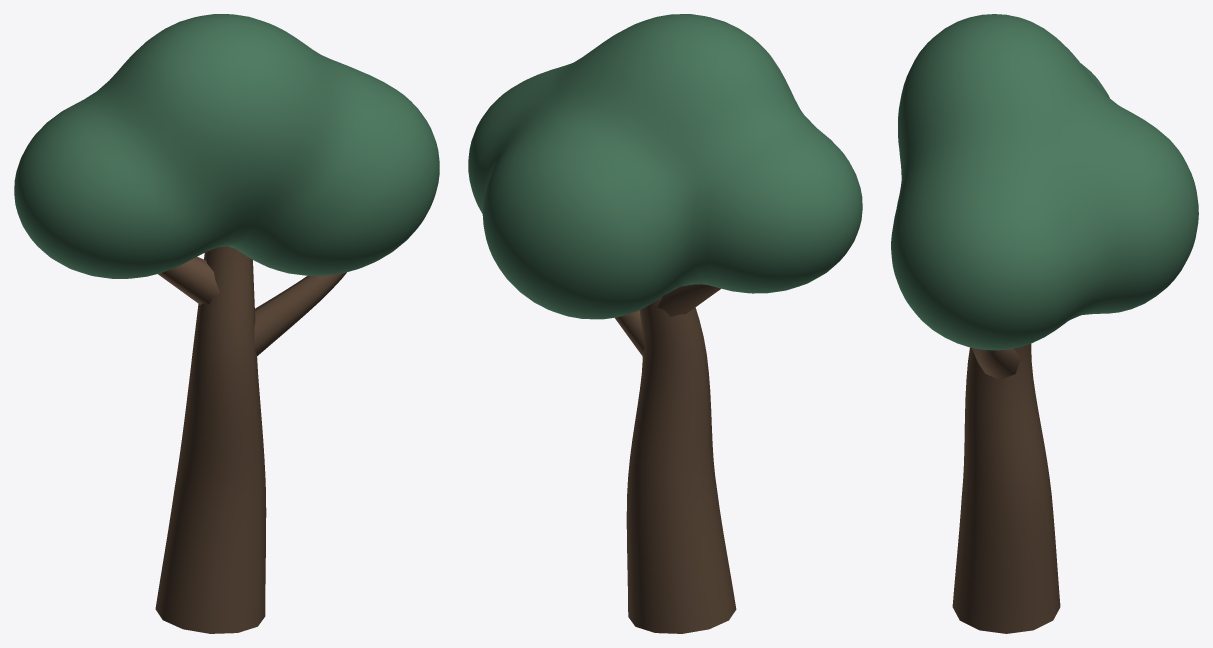
Rendered from tree_3.glb.
3 renders of one model, left to right at view 1: azimuth 30°, elevation 25°; view 2: azimuth 150°, elevation 25°; view 3: azimuth 270°, elevation 25°, orthographic.
Parts seen in each view (by area): view 1: tree_canopy, tree_trunk, tree_branch_0, tree_branch_1; view 2: tree_canopy, tree_trunk, tree_branch_1, tree_branch_0; view 3: tree_canopy, tree_trunk, tree_branch_0.
Boxes of the visible parts, x1,y1,x2,y2 form: tree_canopy: [14, 14, 439, 278]; tree_trunk: [155, 246, 266, 633]; tree_branch_0: [254, 272, 346, 356]; tree_branch_1: [158, 256, 219, 304]; tree_canopy: [468, 14, 862, 319]; tree_trunk: [626, 297, 736, 633]; tree_branch_1: [657, 284, 720, 316]; tree_branch_0: [615, 310, 644, 355]; tree_canopy: [891, 14, 1198, 350]; tree_trunk: [952, 343, 1060, 633]; tree_branch_0: [972, 348, 1020, 379].
Bounding box in the file's own units: 3.43 × 5.04 × 2.4.
